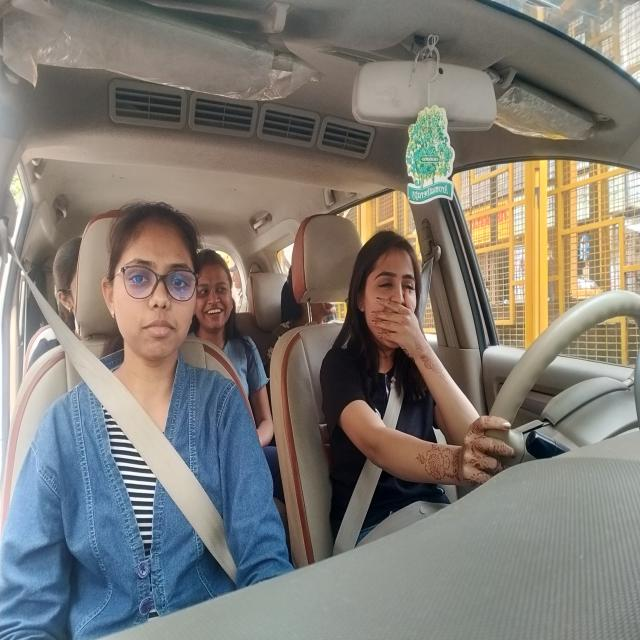drowsy: (358, 231, 430, 357)
person: (114, 212, 198, 356), (200, 250, 237, 338), (286, 270, 338, 324), (53, 240, 80, 336)
